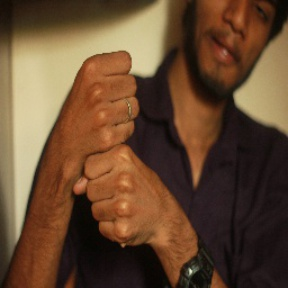G: (43, 47, 164, 250)
